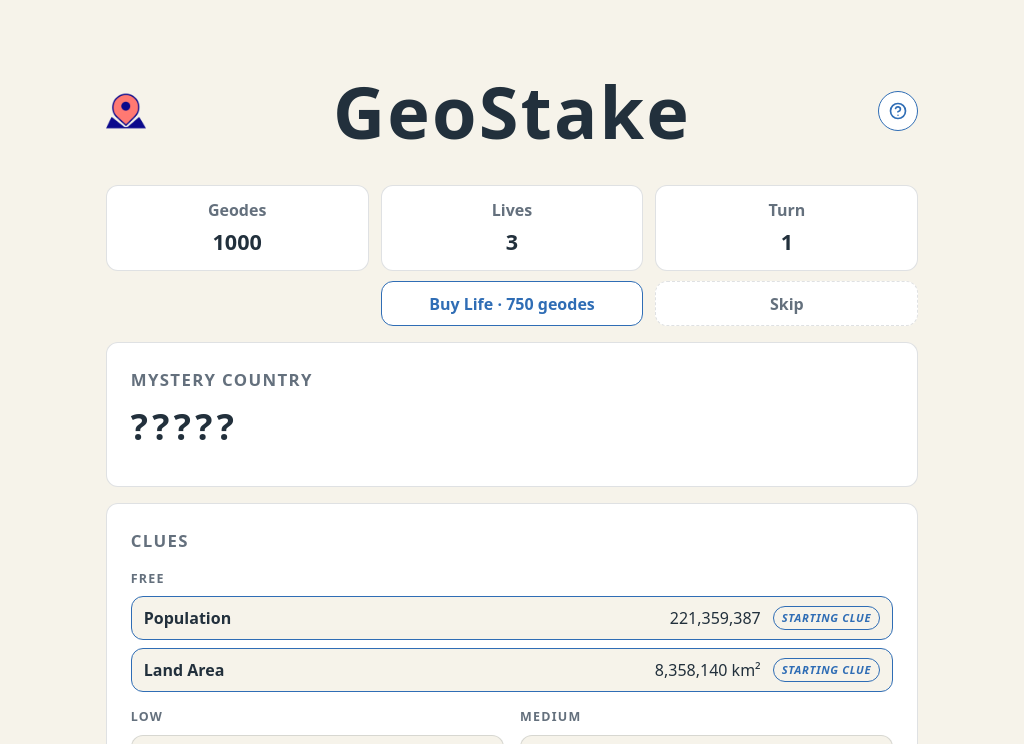
Test: GameScreen help overlay › renders a help button that opens the overlay with the instructions
Click the button named "help".
click(898, 111)  # box [878,91,918,131]
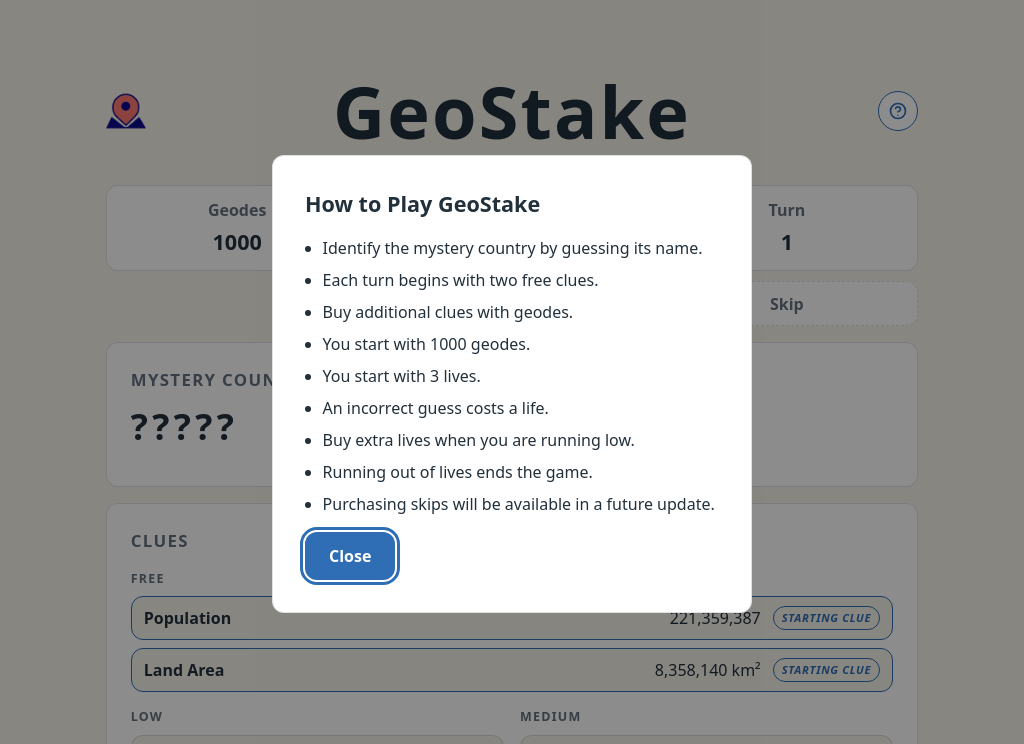
Check: the dialog "How to Play GeoStake" is shown, box [272,155,752,613]
Check: the list item "Identify the mystery country by guessing its name." is shown, box [323,236,715,260]
Check: the list item "Each turn begins with two free clues." is shown, box [323,269,598,291]
